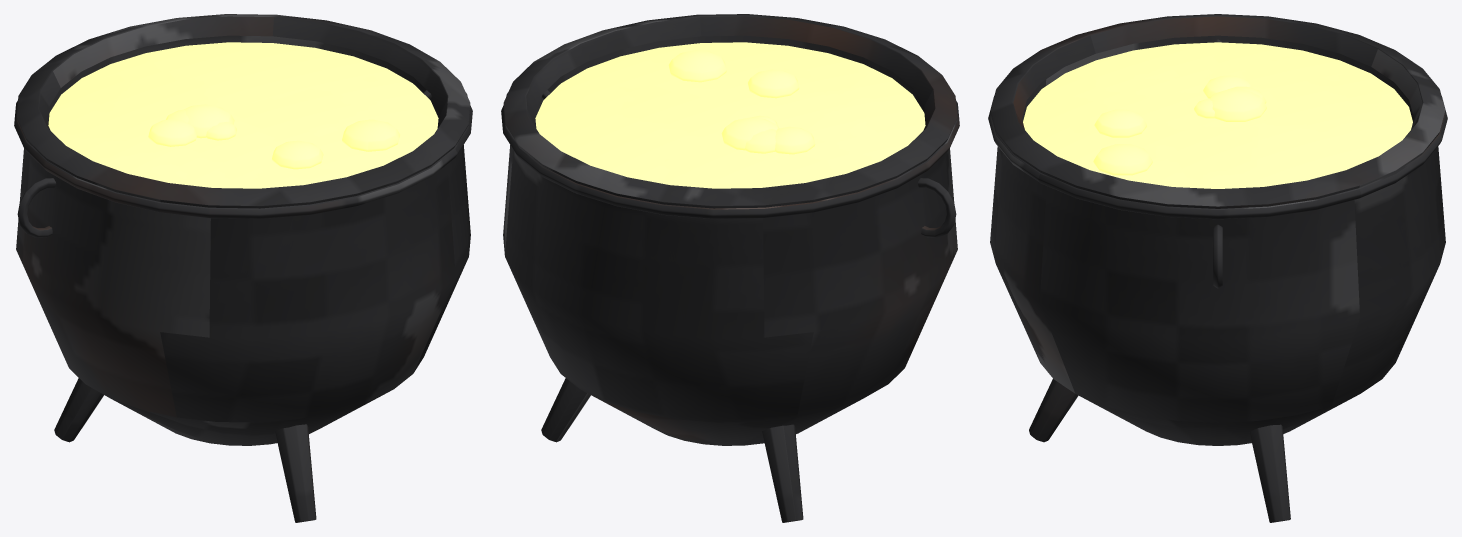
Rendered from prop_cauldron.glb.
3 renders of one model, left to right at view 1: azimuth 30°, elevation 25°; view 2: azimuth 150°, elevation 25°; view 3: azimuth 270°, elevation 25°, orthographic.
Visible parts, largest first — view 1: prop_cauldron; view 2: prop_cauldron; view 3: prop_cauldron.
Boxes of the visible parts, x1=… form: prop_cauldron: x1=14, y1=14, x2=472, y2=522; prop_cauldron: x1=501, y1=14, x2=959, y2=522; prop_cauldron: x1=988, y1=14, x2=1447, y2=522.
Bounding box in the file's own units: 1.14 × 0.849 × 1.01.
2 materials, 2 textured.
